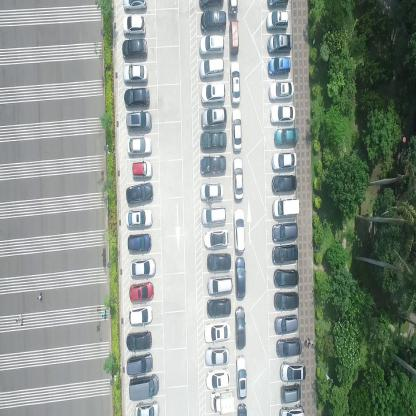car: (128, 373, 158, 399), (209, 387, 235, 413), (127, 352, 154, 376), (205, 318, 231, 342), (201, 105, 228, 128), (126, 182, 154, 204), (198, 56, 224, 79), (201, 204, 227, 227), (203, 226, 229, 249), (276, 335, 302, 358), (198, 34, 225, 56), (273, 194, 300, 216), (126, 208, 154, 229), (129, 304, 154, 327), (201, 81, 227, 103), (280, 359, 306, 381), (272, 220, 298, 242), (272, 242, 299, 263), (235, 352, 247, 398), (126, 136, 151, 158), (207, 250, 232, 272), (208, 274, 233, 296), (205, 367, 230, 389), (267, 33, 292, 55), (201, 154, 227, 175), (127, 329, 153, 350), (204, 345, 230, 366), (124, 87, 150, 108), (126, 111, 152, 132), (130, 257, 157, 277), (232, 155, 244, 200), (233, 207, 245, 252), (122, 63, 149, 83), (269, 104, 296, 124), (130, 280, 154, 302), (206, 297, 231, 318), (272, 150, 297, 171), (121, 38, 147, 58), (268, 80, 294, 100), (273, 267, 299, 287), (229, 56, 240, 102), (122, 14, 146, 35), (200, 180, 224, 201), (200, 131, 228, 149), (274, 312, 298, 333), (235, 255, 246, 300), (235, 305, 246, 350), (200, 10, 226, 29), (266, 9, 288, 31), (274, 291, 299, 310), (272, 173, 298, 191), (268, 56, 290, 77), (280, 382, 301, 404), (128, 233, 152, 252), (274, 127, 298, 146), (131, 158, 152, 179), (232, 107, 242, 151), (135, 400, 159, 416), (229, 17, 239, 54), (278, 403, 304, 415), (122, 0, 147, 11), (199, 0, 224, 8), (266, 0, 288, 8), (227, 0, 238, 15)
